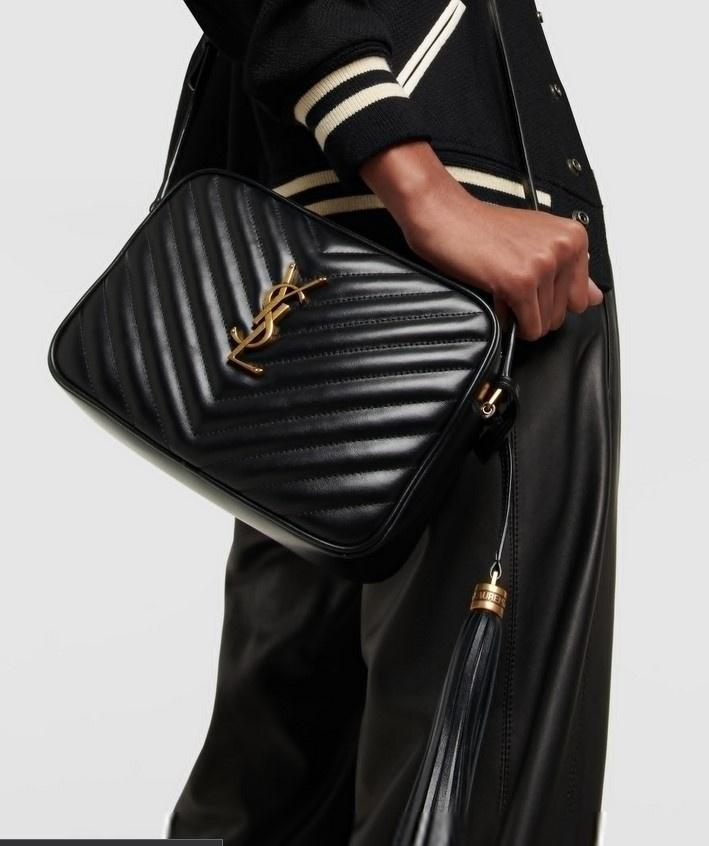YVES-SAINT-LAURENT: (228, 263, 326, 375)
